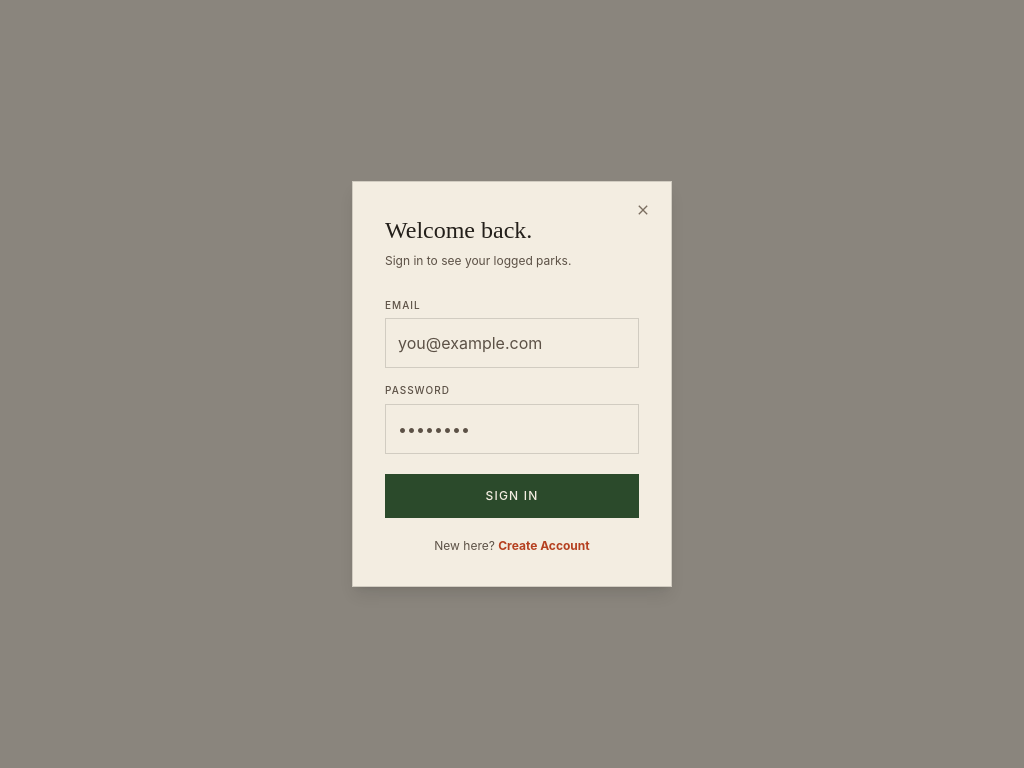
Test: AuthModal › announces sign-in errors with role=alert
The image size is (1024, 768).
Type "a@b.com" into the field with id "auth-email" at {"x": 512, "y": 343}, box [385, 318, 639, 368]
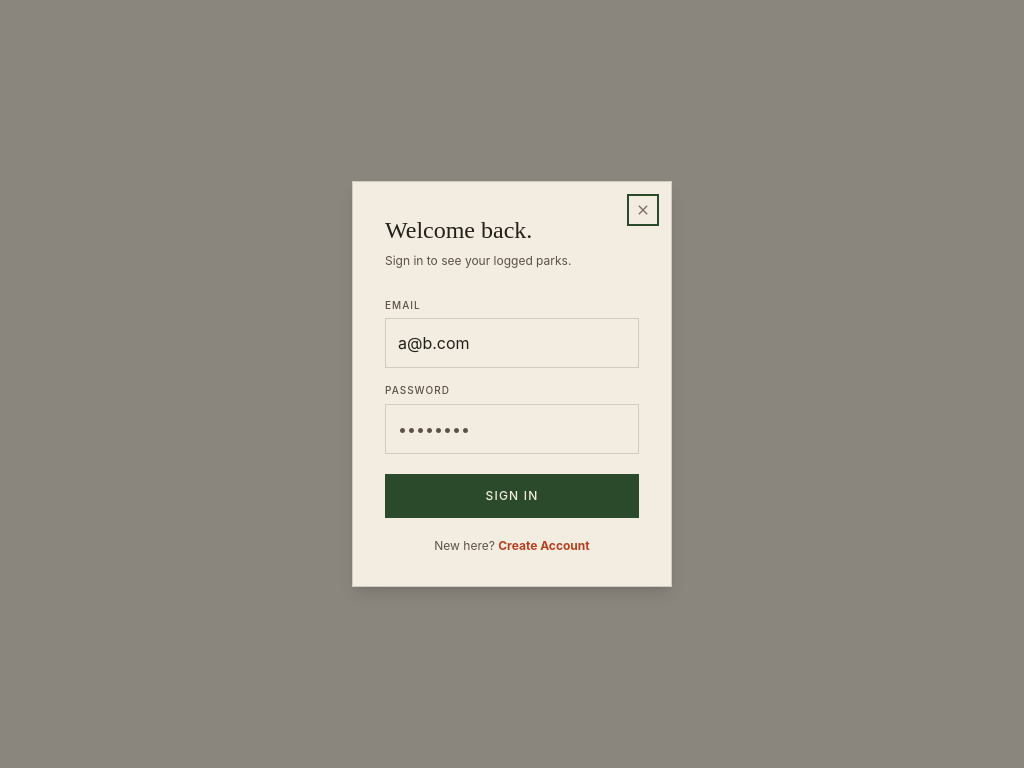
Type "nope" into the password field with id "auth-password" at {"x": 512, "y": 429}, box [385, 404, 639, 454]
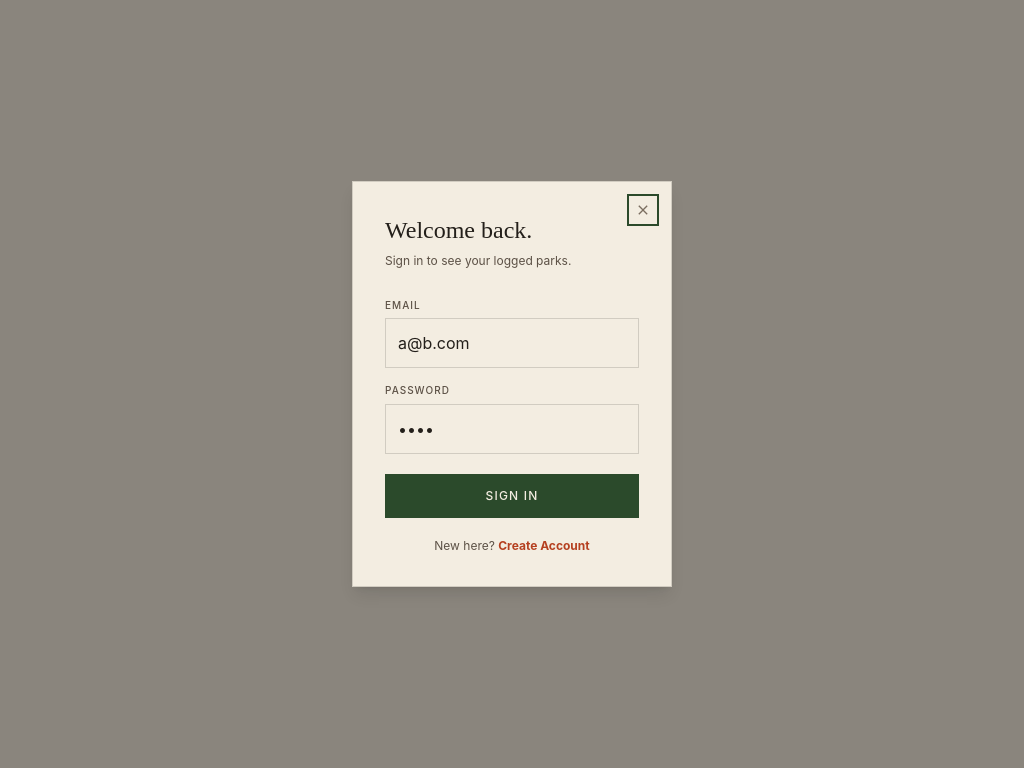
Submit the form, box [385, 299, 639, 518]
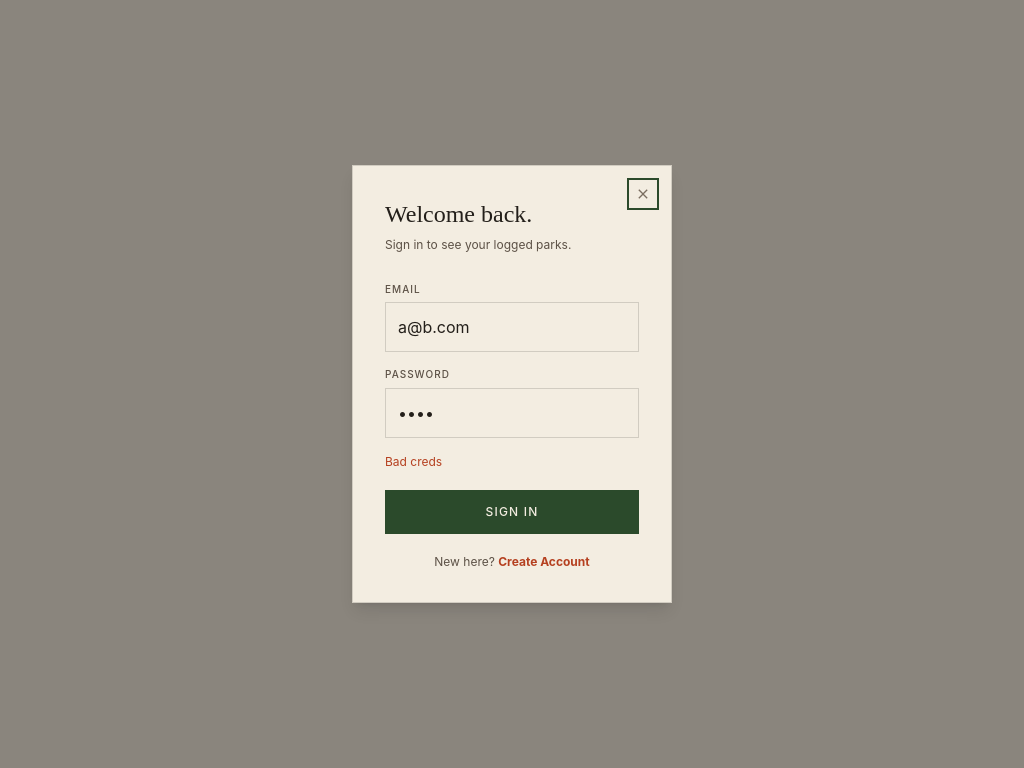
Expected: the message "Bad creds" is shown, [385, 454, 442, 469]
